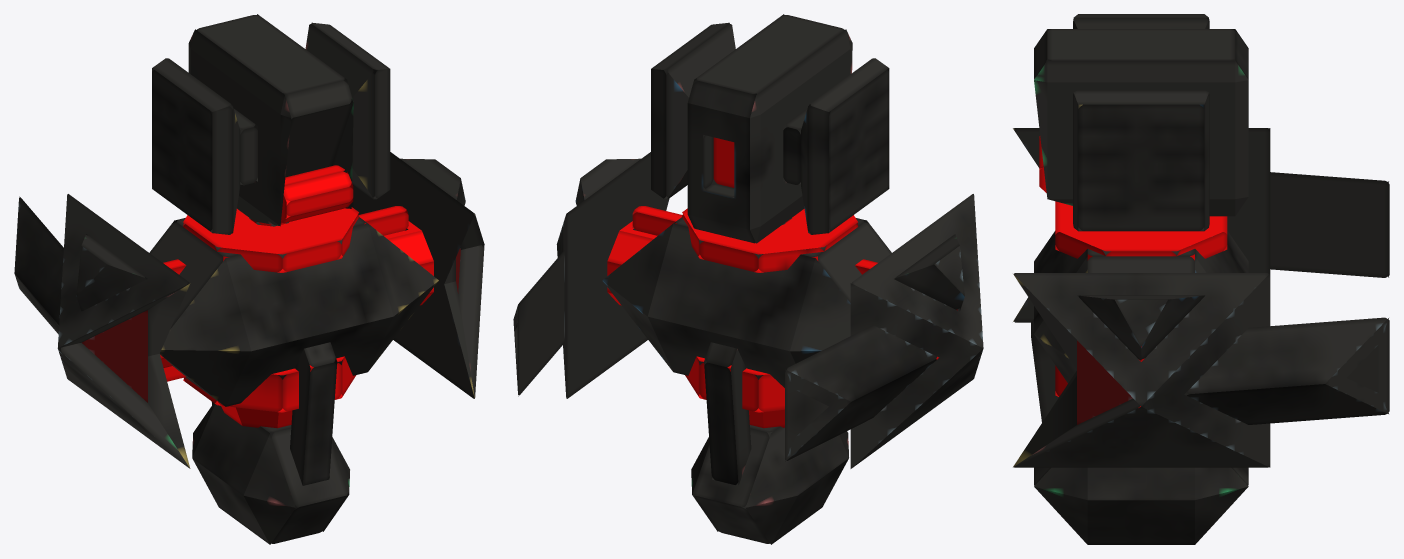
Rendered from enemy01.fbx.
The picture shows the model from 3 angles, left to right: view 1: azimuth 30°, elevation 25°; view 2: azimuth 150°, elevation 25°; view 3: azimuth 270°, elevation 25°; orthographic projection. The views are drawn at different scales.
Parts seen in each view (by area): view 1: beveled_cuboid, beveled_cuboid_1, pyramid_1, beveled_cuboid_2, pyramid, cylinder_4, cylinder, cylinder_3, cylinder_1, sphere; view 2: beveled_cuboid, pyramid_1, beveled_cuboid_1, pyramid, beveled_cuboid_2, cylinder_4, cylinder_1, cylinder_3, sphere; view 3: pyramid, beveled_cuboid, pyramid_1, beveled_cuboid_2, beveled_cuboid_1, cylinder_4.
Part boxes in pixels (bbox=[...]): beveled_cuboid: bbox=[152, 14, 390, 234]; beveled_cuboid_1: bbox=[149, 217, 438, 406]; pyramid_1: bbox=[14, 194, 190, 468]; beveled_cuboid_2: bbox=[192, 342, 349, 544]; pyramid: bbox=[351, 152, 484, 398]; cylinder_4: bbox=[183, 207, 359, 272]; cylinder: bbox=[280, 165, 353, 223]; cylinder_3: bbox=[183, 356, 356, 412]; cylinder_1: bbox=[359, 206, 433, 305]; sphere: bbox=[221, 405, 292, 428]; beveled_cuboid: bbox=[651, 14, 889, 243]; pyramid_1: bbox=[785, 194, 983, 468]; beveled_cuboid_1: bbox=[602, 217, 891, 387]; pyramid: bbox=[513, 152, 669, 398]; beveled_cuboid_2: bbox=[691, 342, 848, 544]; cylinder_4: bbox=[682, 208, 858, 272]; cylinder_1: bbox=[607, 206, 682, 305]; cylinder_3: bbox=[685, 356, 784, 412]; sphere: bbox=[749, 409, 784, 428]; pyramid: bbox=[1013, 273, 1389, 467]; beveled_cuboid: bbox=[1034, 14, 1248, 231]; pyramid_1: bbox=[1013, 128, 1389, 322]; beveled_cuboid_2: bbox=[1031, 319, 1248, 544]; beveled_cuboid_1: bbox=[1034, 231, 1248, 383]; cylinder_4: bbox=[1055, 201, 1227, 260].
Bounding box in the file's own units: 150 × 156 × 110.
1 material, 1 textured.
